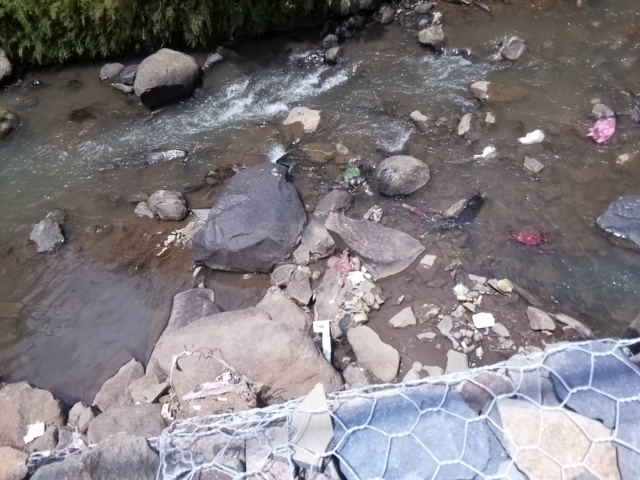Sampah_Plastik: (588, 119, 618, 142), (514, 228, 549, 247), (336, 250, 359, 276)
Sampah_Styrofoam: (471, 311, 497, 328), (519, 129, 543, 146), (25, 423, 46, 440)
